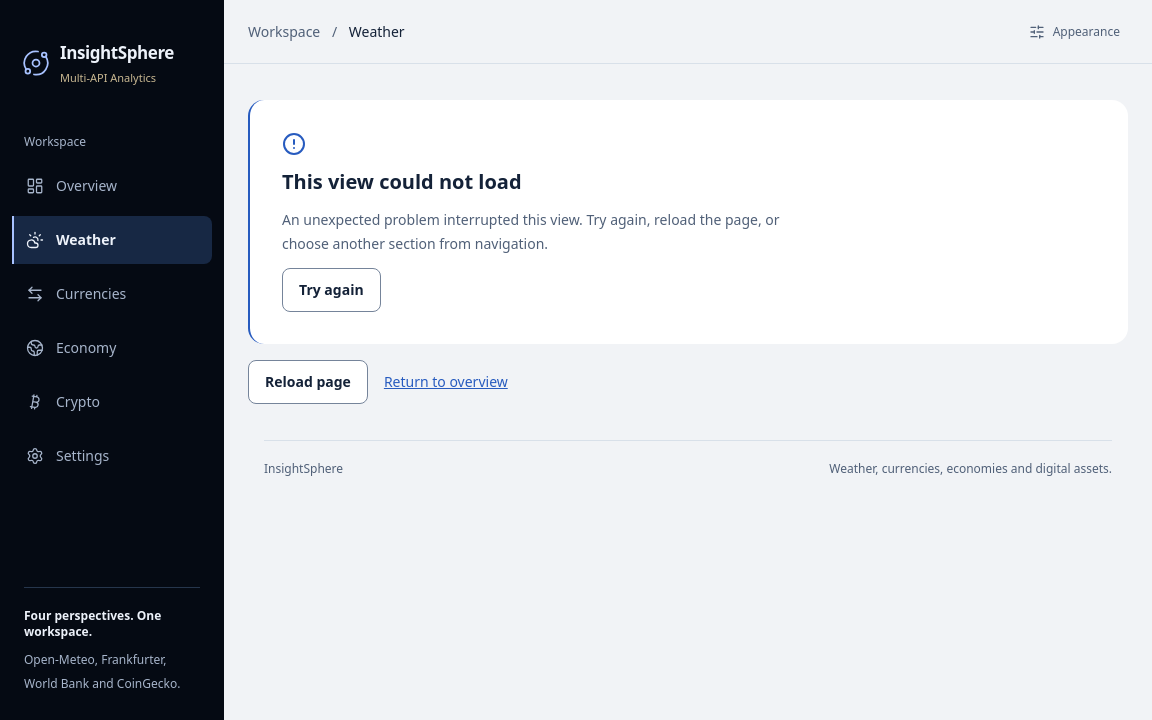
Scenario: Workspace navigation and recovery › keeps navigation available after render errors and can retry without exposing details
Check: the message shows "This view could not load", box [282, 168, 522, 195]
Check: the navigation bar named "Main navigation" is shown, box [12, 162, 212, 480]
Click the button "Try again" at {"x": 331, "y": 290}, box [282, 268, 381, 312]
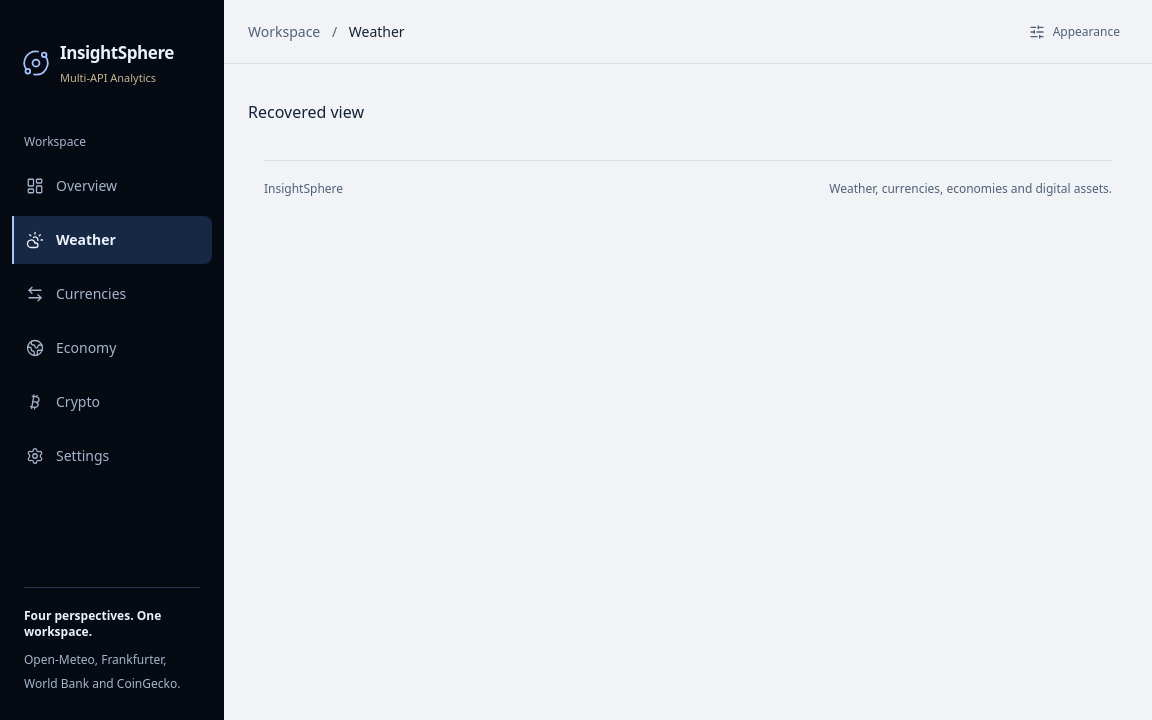
Check: the heading "Recovered view" is shown, box [248, 101, 364, 123]
